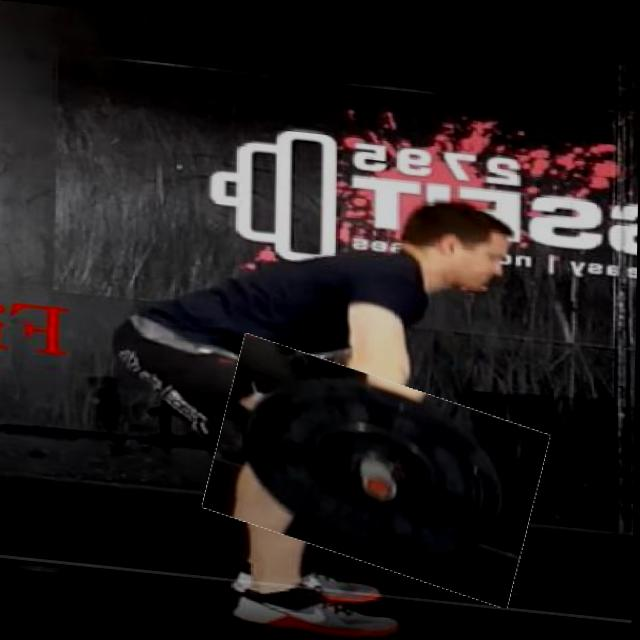barbell: (212, 342, 545, 585)
